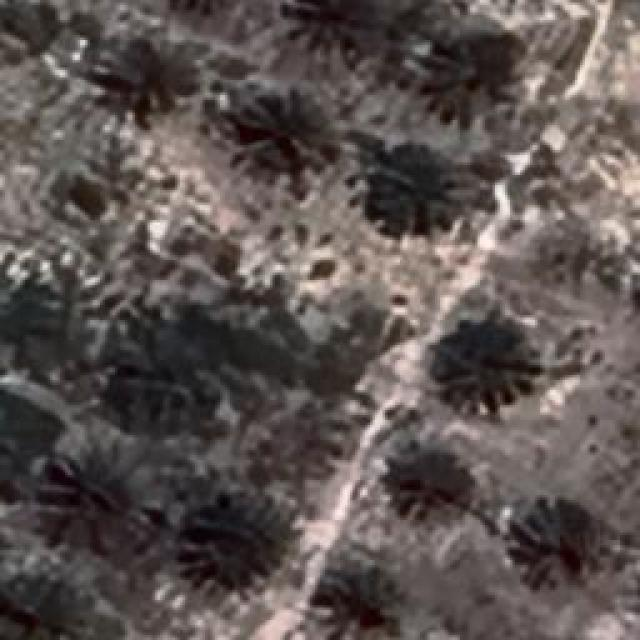PalmTree: (111, 322, 209, 436), (185, 502, 293, 586), (440, 318, 535, 408), (431, 25, 519, 120), (73, 12, 203, 73), (49, 458, 132, 550), (520, 501, 615, 581), (372, 148, 458, 236), (392, 442, 476, 530), (242, 90, 332, 172), (108, 44, 196, 118), (289, 0, 379, 65), (325, 575, 400, 640), (0, 0, 58, 58), (0, 390, 16, 490), (160, 0, 242, 15)
